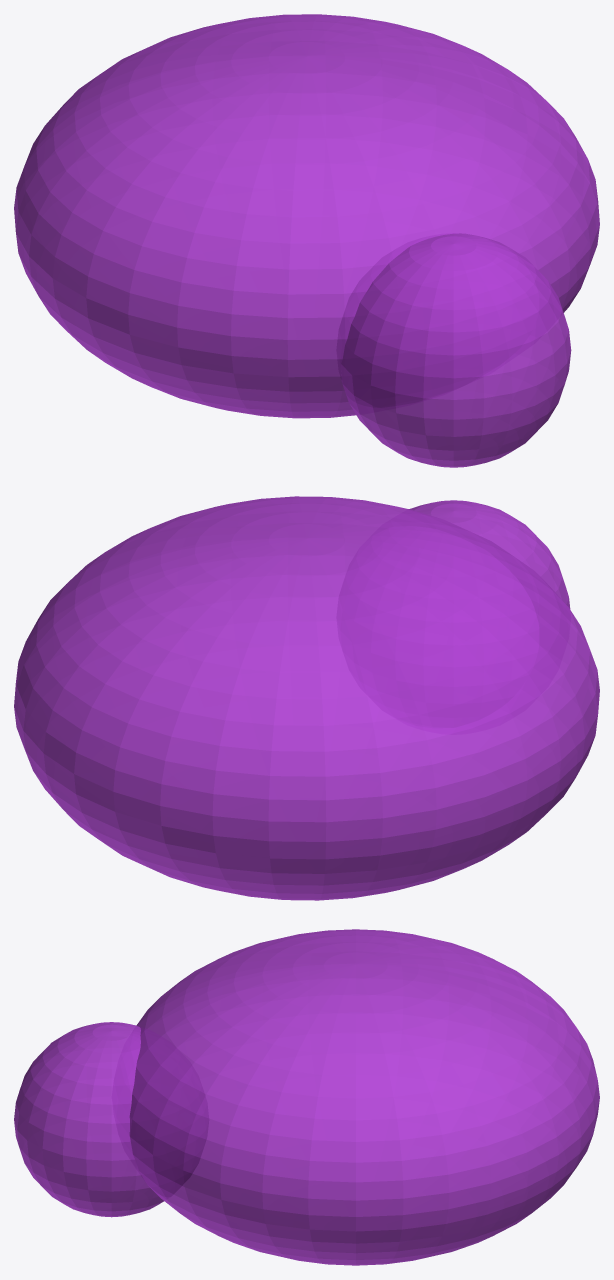
The model's file is ladybug_agent.obj.
3 views of the same model, one above another, from view 1: azimuth 30°, elevation 25°; view 2: azimuth 150°, elevation 25°; view 3: azimuth 270°, elevation 25° (orthographic). The views are drawn at different scales.
Visible parts, largest first — view 1: ladybug_agent; view 2: ladybug_agent; view 3: ladybug_agent.
Part boxes in pixels (left/top/right/bottom): ladybug_agent: left=14, top=14, right=599, bottom=467; ladybug_agent: left=14, top=496, right=599, bottom=900; ladybug_agent: left=14, top=929, right=599, bottom=1265.
Bounding box in the file's own units: 2 × 1.2 × 2.4.
